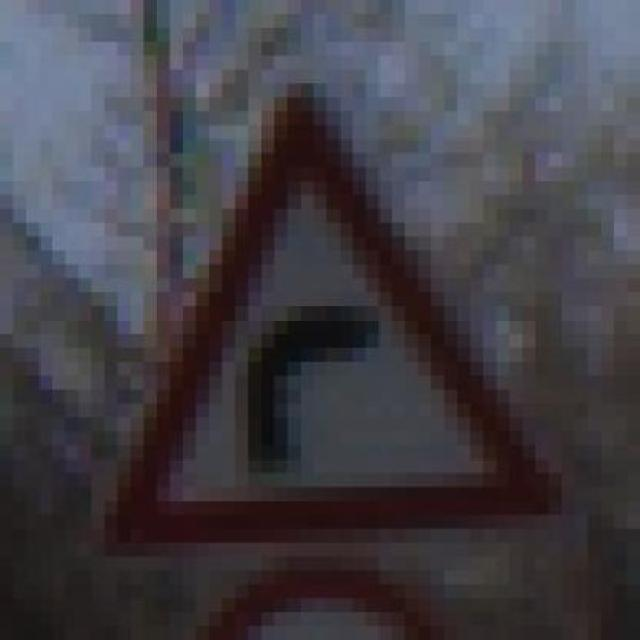Dangerous Rright Curve Ahead: (65, 55, 588, 557)
